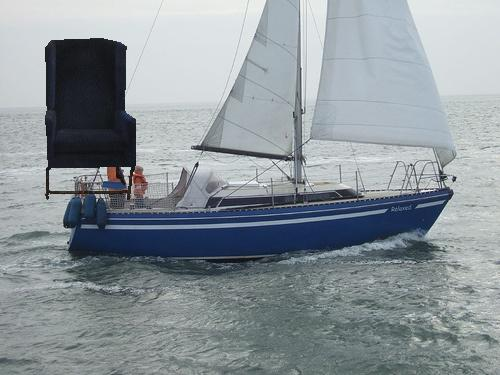tampered: (46, 39, 136, 200)
